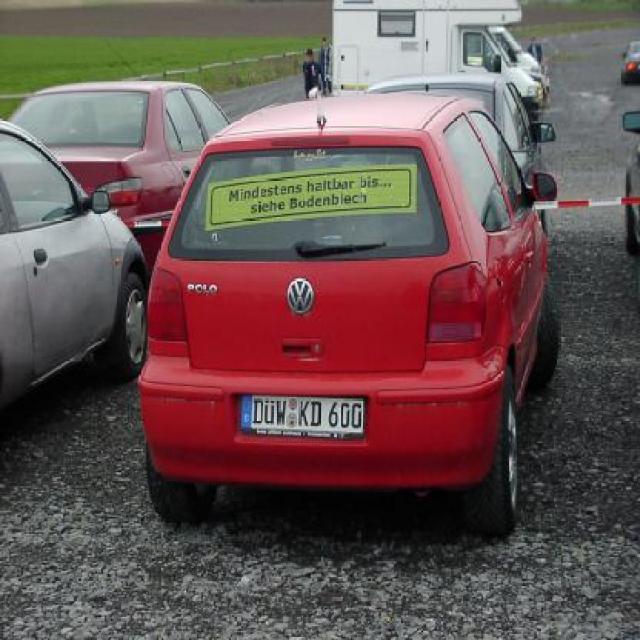License-Plates: (241, 393, 367, 439)
